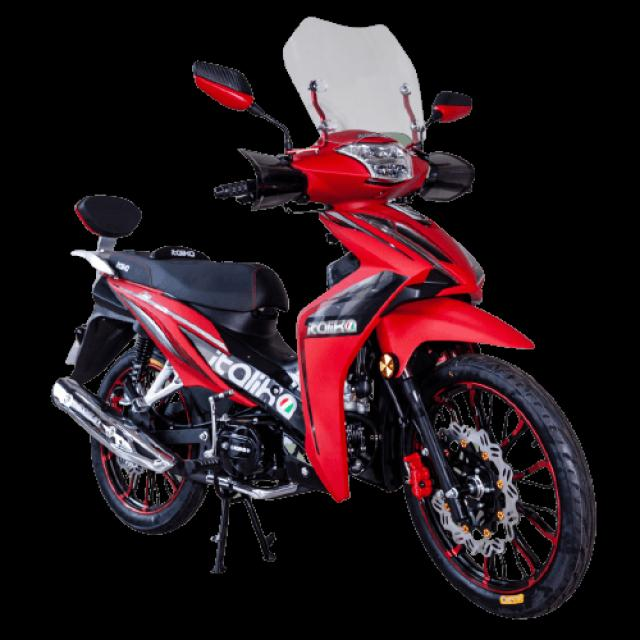Motorcycle: (52, 17, 596, 620)
